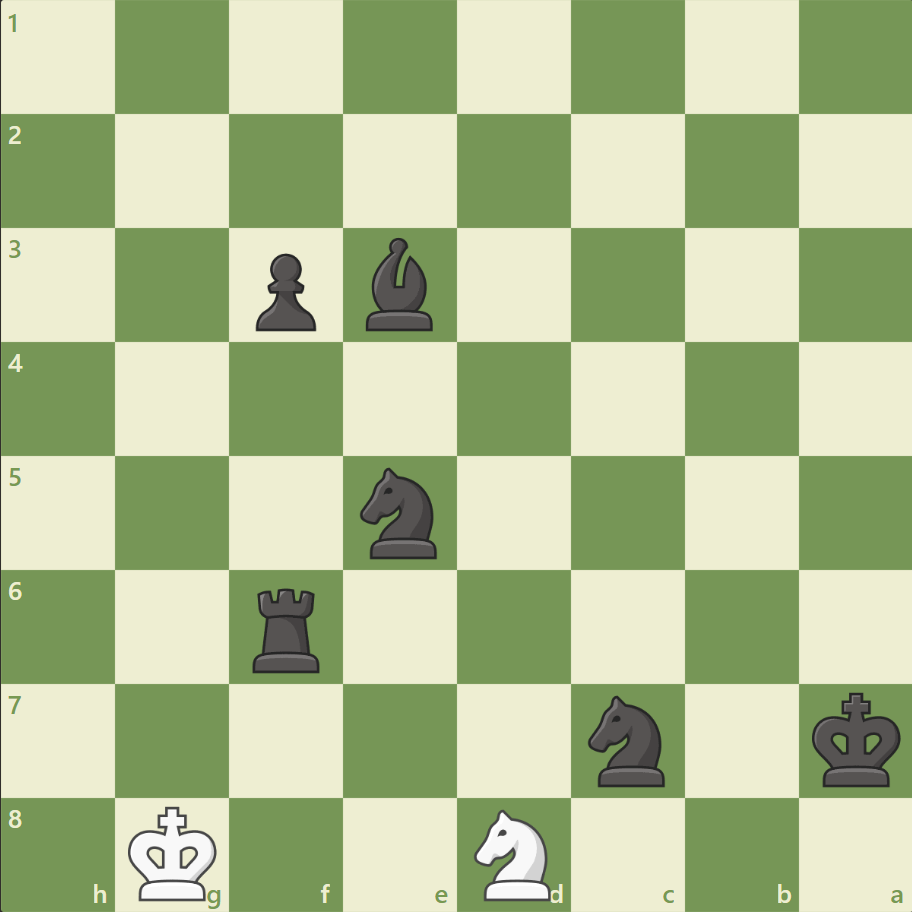K: (124, 798, 224, 906)
N: (465, 802, 562, 904)
b: (358, 233, 442, 336)
k: (806, 685, 906, 793)
n: (351, 461, 449, 564), (579, 688, 676, 791)
p: (247, 246, 322, 337)
r: (246, 579, 329, 676)
